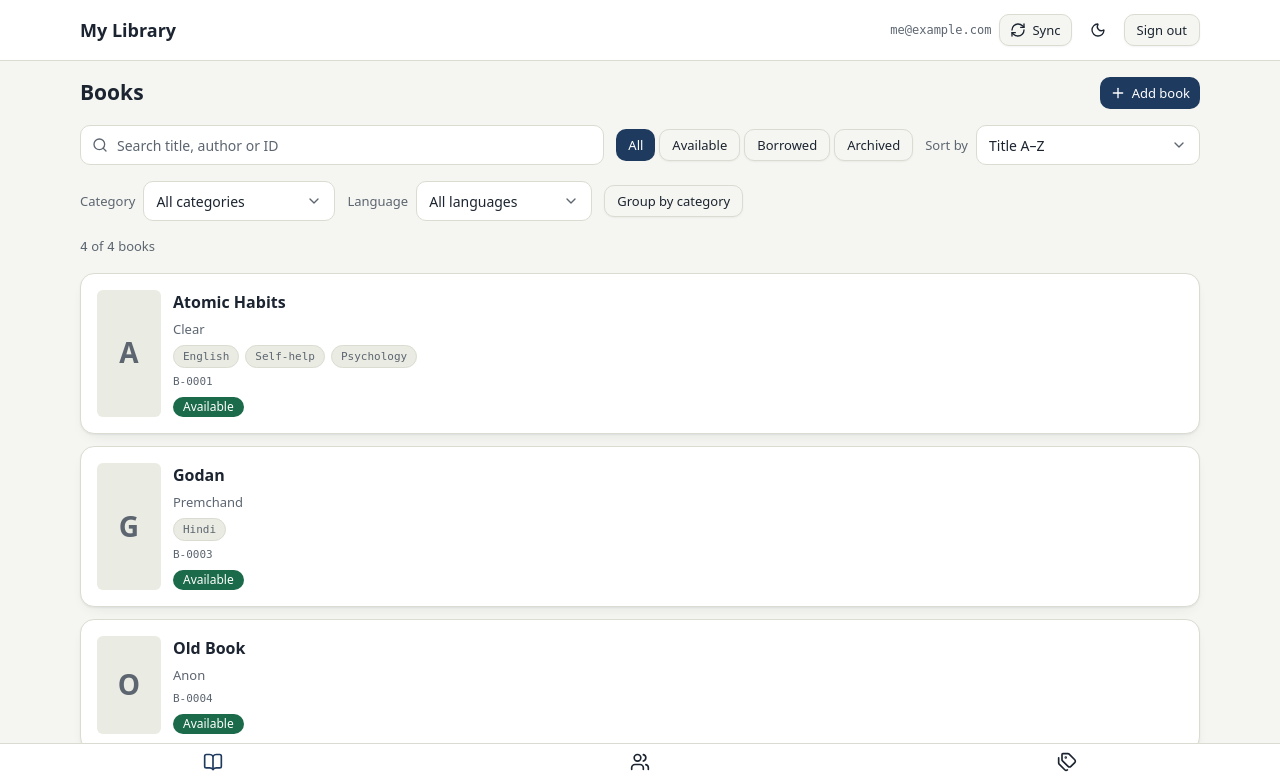
Test: category and language filters › filters by language and combines with category, status and search
Expected: the text "Atomic Habits" is shown, [173,291,286,313]
Click the dropdown labelled "language".
click(504, 201)  # box [416,181,592,221]
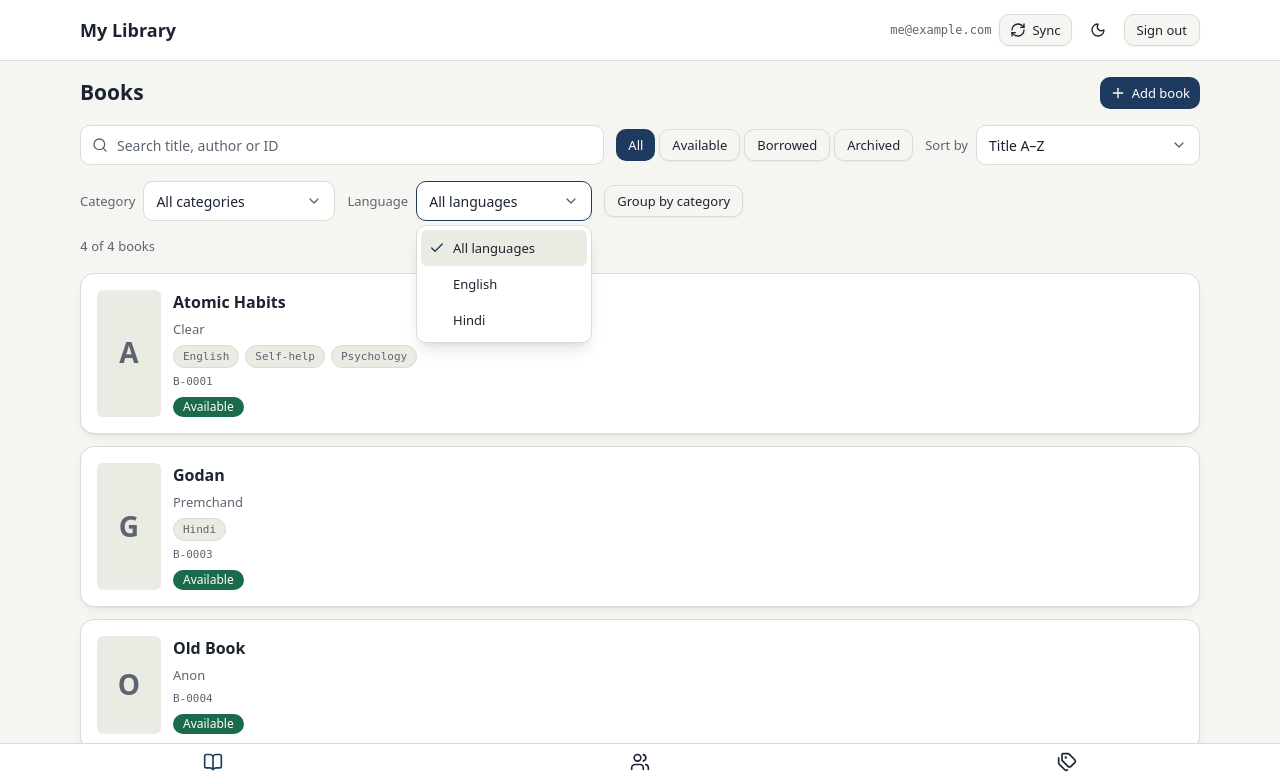
Click the option "English".
click(475, 284)  # box [453,275,497,293]
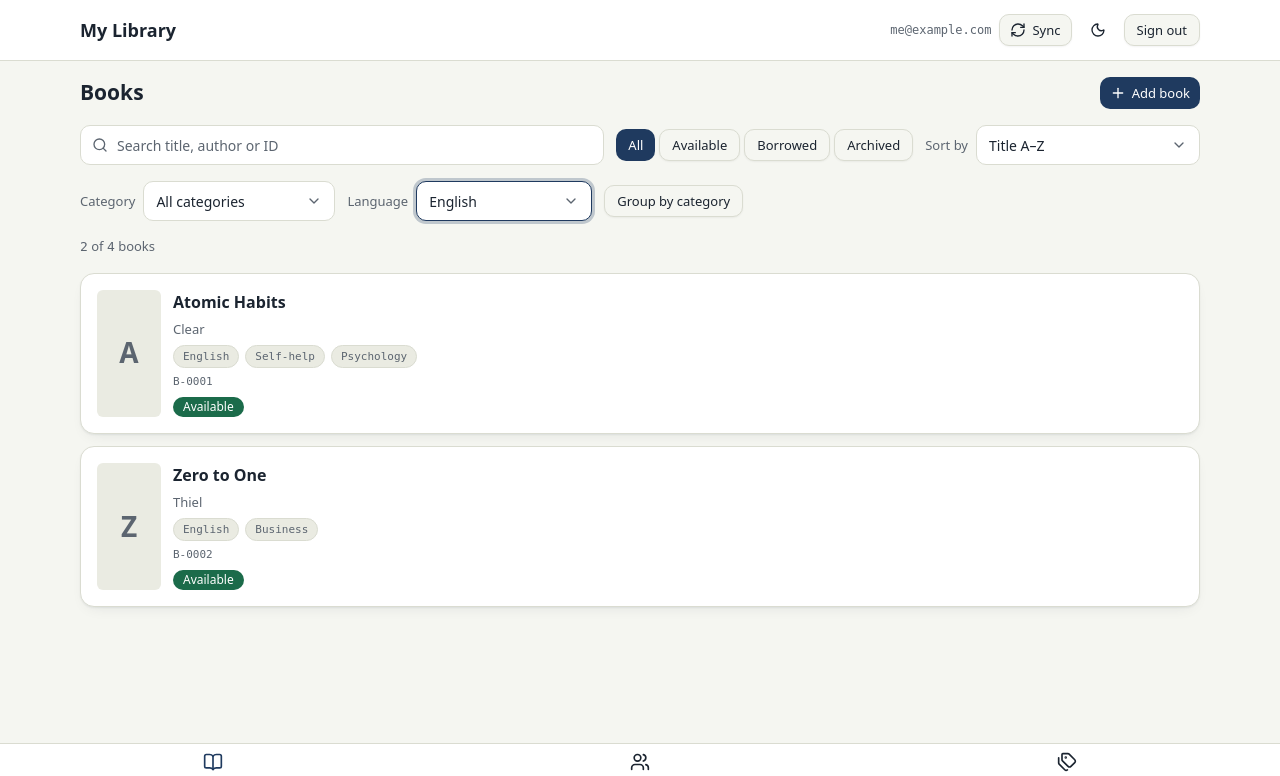
Click the dropdown named "Category".
click(239, 201)  # box [143,181,335,221]
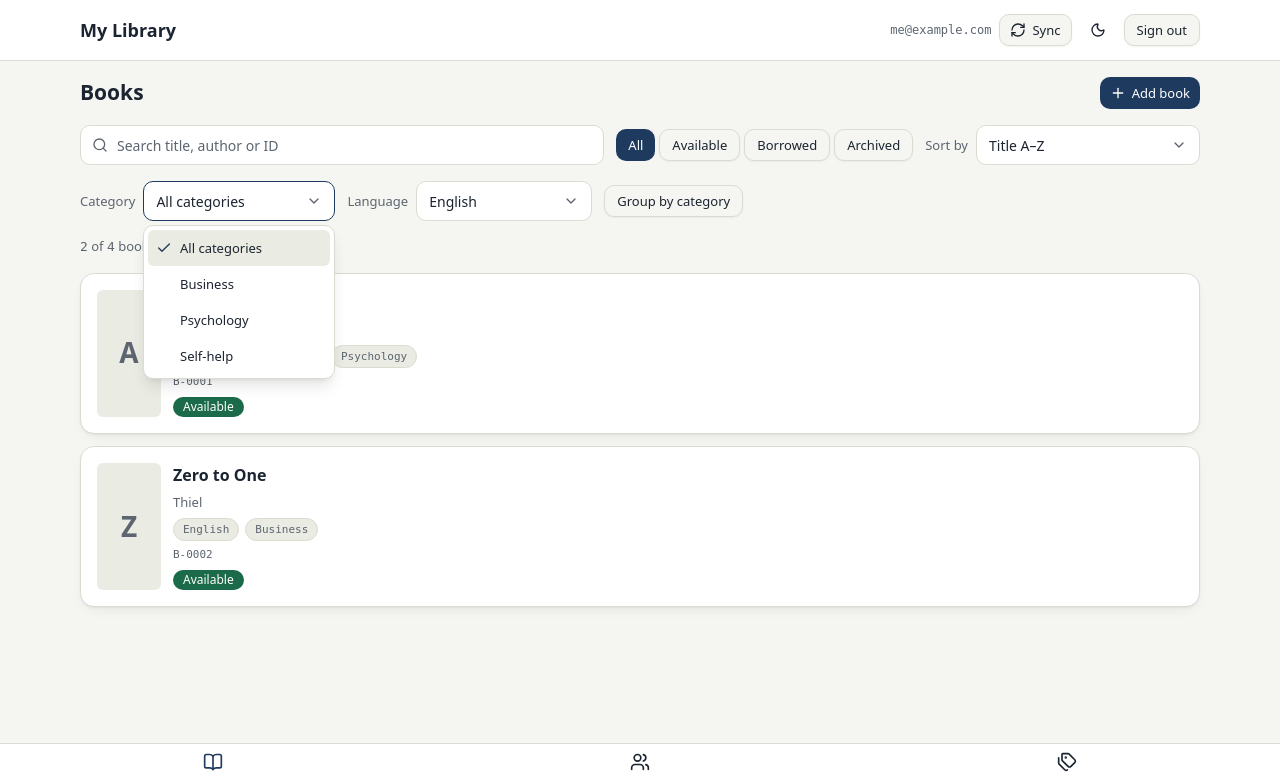
Click the option "Business".
click(207, 284)  # box [180,275,234,293]
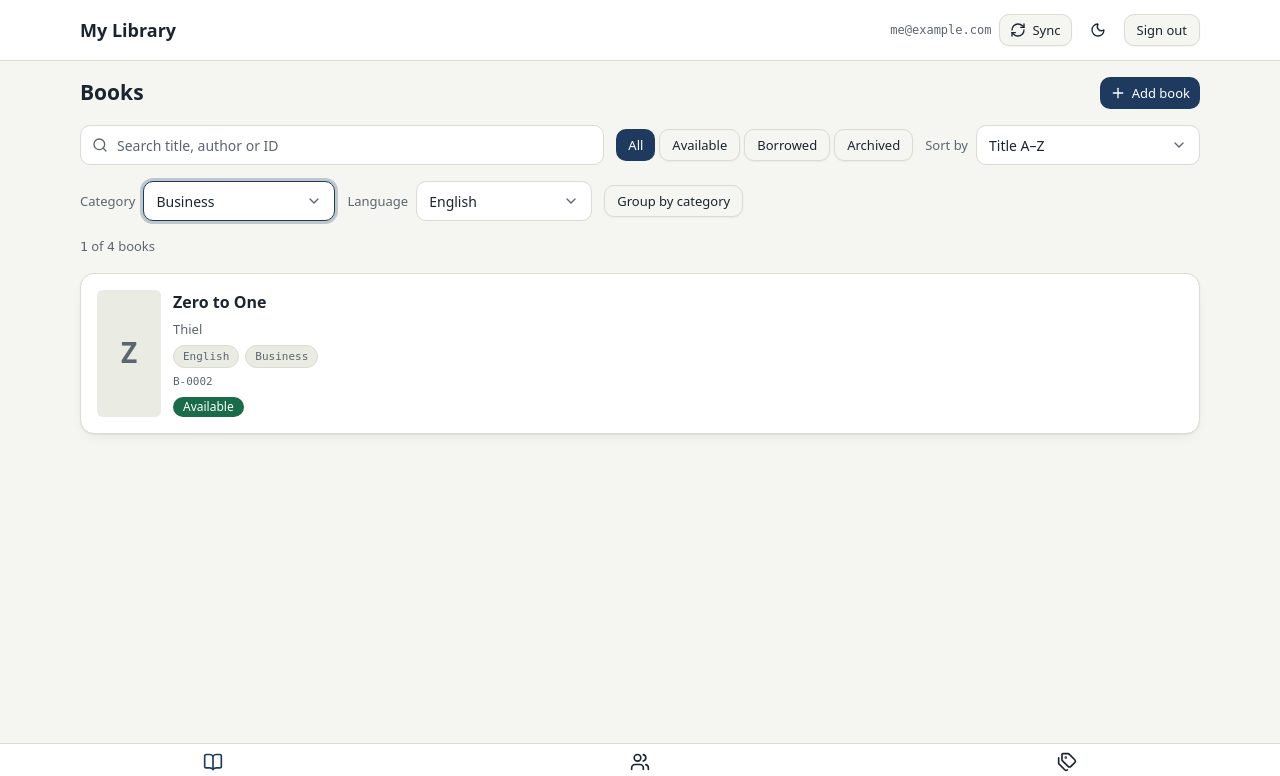
Type "atomic" into the search field.
click(342, 145); type("atomic")  # box [80,125,604,165]
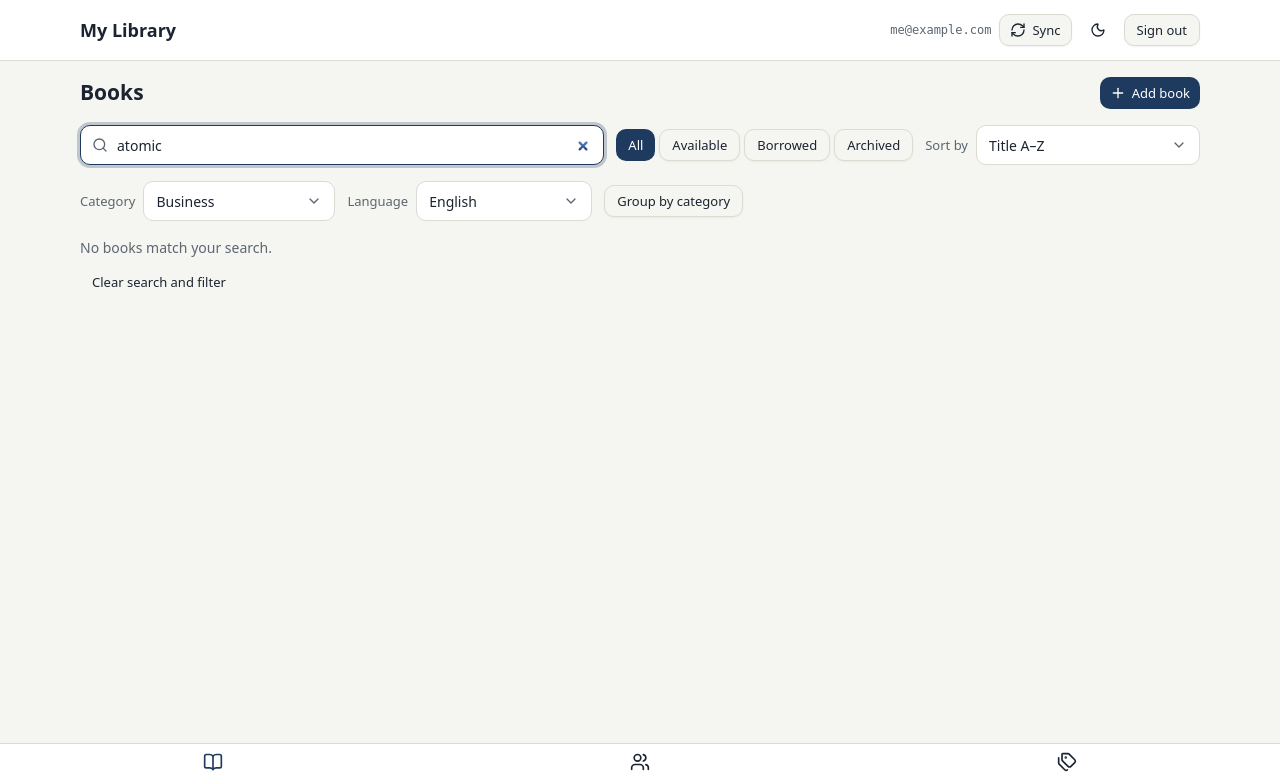
Result: the text "No books match your search." is shown at [80,238,272,257]
